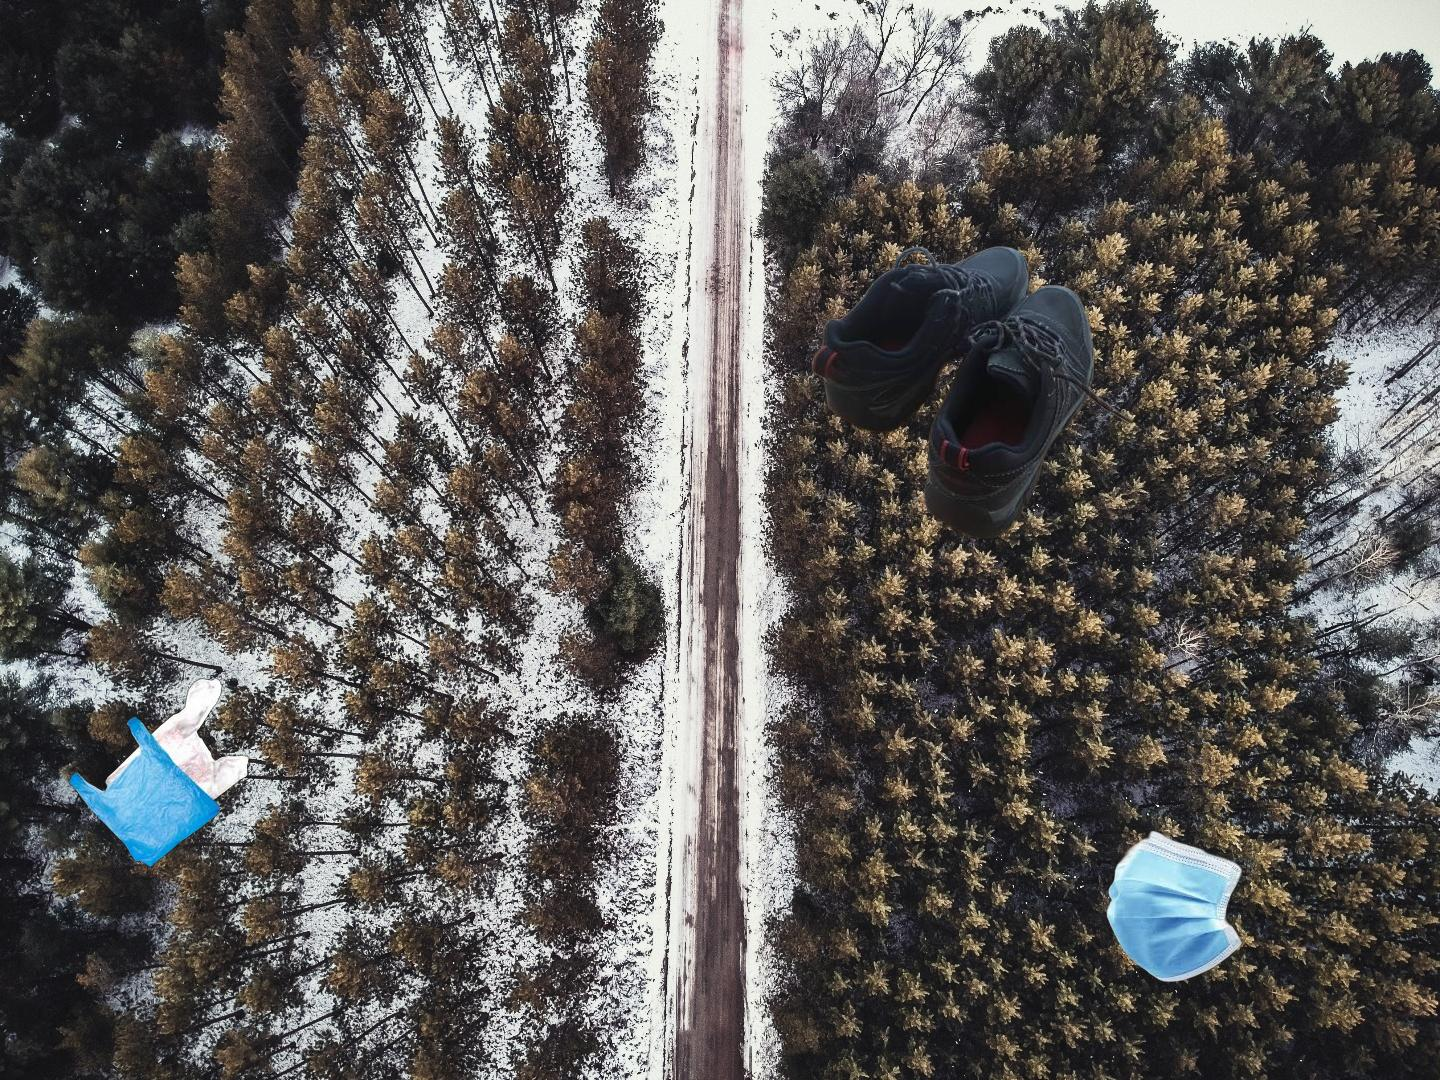plastic-bag: (66, 677, 250, 870)
shoes: (807, 242, 1137, 543)
trash: (1104, 828, 1293, 985)
